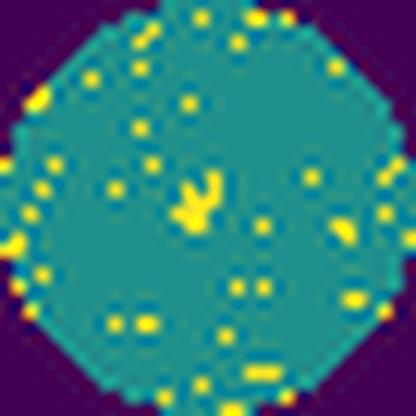Center: (166, 166, 230, 240)
